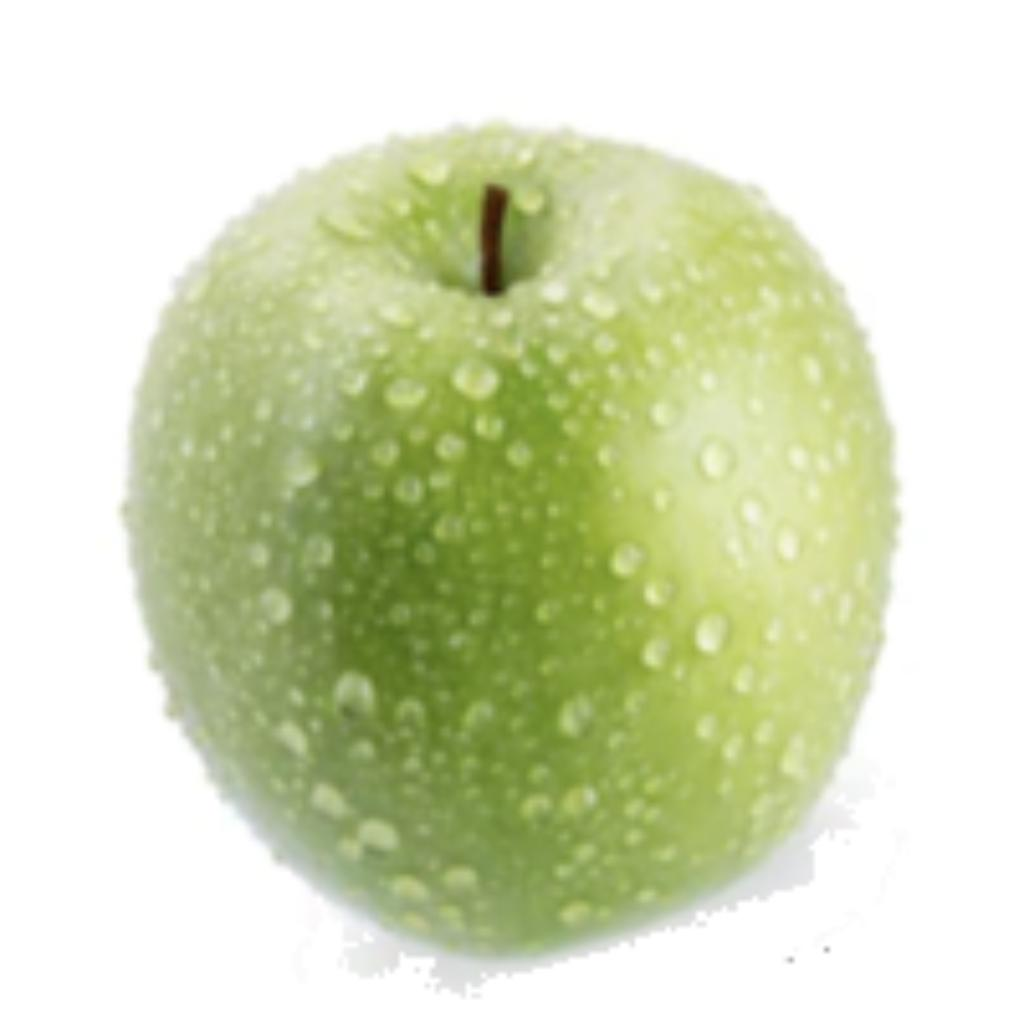apple: (108, 108, 906, 998)
